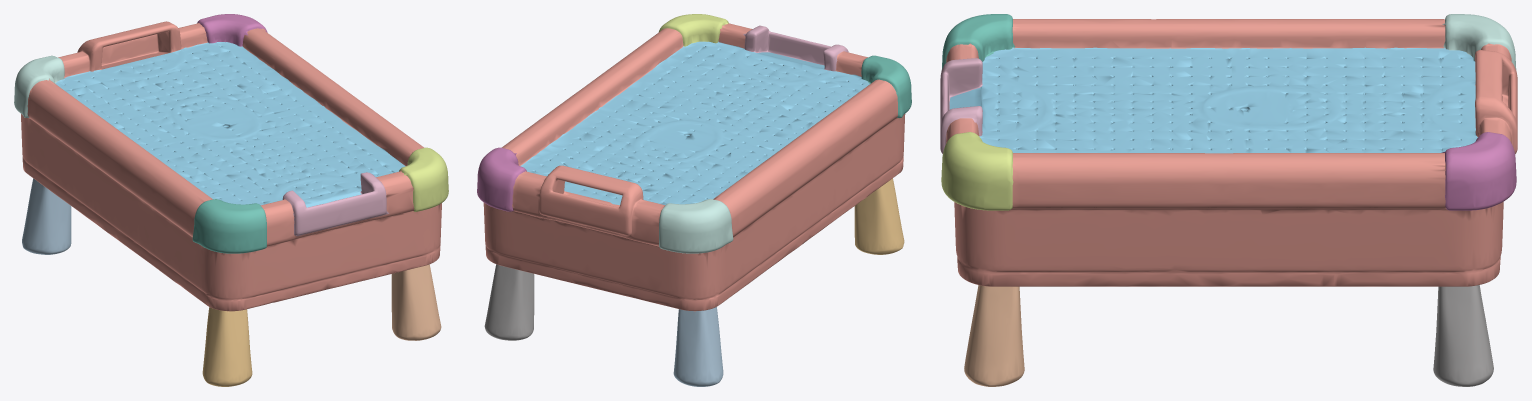
Rendered from table-classic.glb.
3 views of the same model, side by side, from view 1: azimuth 30°, elevation 25°; view 2: azimuth 150°, elevation 25°; view 3: azimuth 270°, elevation 25° (orthographic). The views are drawn at different scales.
Visible parts, largest first — view 1: tripo_part_1, tripo_part_0, tripo_part_2, tripo_part_3, tripo_part_6, tripo_part_10, tripo_part_5, tripo_part_9, tripo_part_7, tripo_part_8; view 2: tripo_part_1, tripo_part_0, tripo_part_7, tripo_part_5, tripo_part_4, tripo_part_3, tripo_part_10, tripo_part_8, tripo_part_2, tripo_part_9; view 3: tripo_part_1, tripo_part_0, tripo_part_4, tripo_part_6, tripo_part_9, tripo_part_8, tripo_part_10, tripo_part_2, tripo_part_7.
Boxes of the visible parts, bbox=[...] form: tripo_part_1: bbox=[21, 21, 441, 311]; tripo_part_0: bbox=[55, 41, 405, 207]; tripo_part_2: bbox=[192, 199, 266, 253]; tripo_part_3: bbox=[202, 307, 252, 386]; tripo_part_6: bbox=[391, 264, 441, 340]; tripo_part_10: bbox=[282, 172, 388, 236]; tripo_part_5: bbox=[22, 178, 71, 254]; tripo_part_9: bbox=[399, 147, 448, 211]; tripo_part_7: bbox=[14, 55, 64, 117]; tripo_part_8: bbox=[197, 14, 267, 46]; tripo_part_1: bbox=[483, 23, 905, 311]; tripo_part_0: bbox=[520, 41, 869, 205]; tripo_part_7: bbox=[659, 199, 733, 253]; tripo_part_5: bbox=[673, 307, 723, 386]; tripo_part_4: bbox=[484, 264, 534, 340]; tripo_part_3: bbox=[854, 178, 904, 254]; tripo_part_10: bbox=[743, 25, 848, 71]; tripo_part_8: bbox=[477, 147, 526, 211]; tripo_part_2: bbox=[861, 55, 911, 118]; tripo_part_9: bbox=[659, 14, 728, 46]; tripo_part_1: bbox=[946, 19, 1517, 286]; tripo_part_0: bbox=[949, 47, 1477, 153]; tripo_part_4: bbox=[1433, 285, 1493, 386]; tripo_part_6: bbox=[964, 285, 1024, 386]; tripo_part_9: bbox=[941, 132, 1013, 210]; tripo_part_8: bbox=[1441, 132, 1516, 210]; tripo_part_10: bbox=[940, 58, 982, 153]; tripo_part_2: bbox=[942, 14, 1015, 68]; tripo_part_7: bbox=[1442, 14, 1516, 69].
Bounding box in the file's own units: 0.6231 × 0.4543 × 0.9794.
